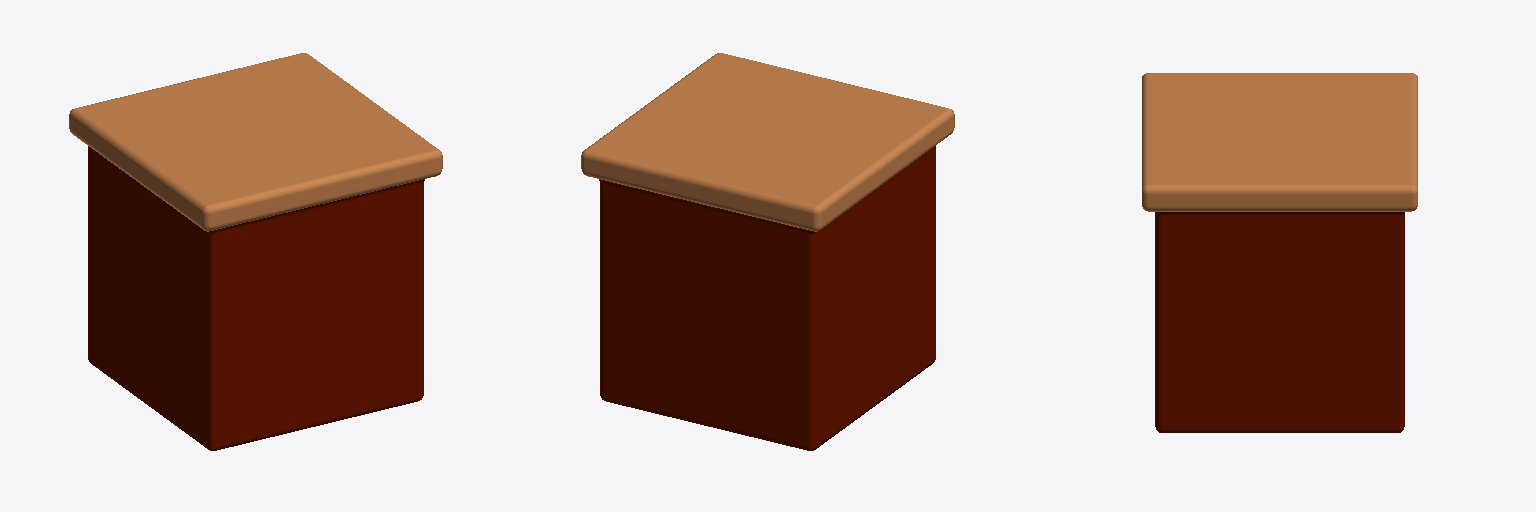
File: Table.obj
3 renders of one model, left to right at view 1: azimuth 30°, elevation 25°; view 2: azimuth 150°, elevation 25°; view 3: azimuth 270°, elevation 25°, orthographic.
Visible parts, largest first — view 1: Cube; view 2: Cube; view 3: Cube.
Part boxes in pixels (left/top/right/bottom): Cube: left=69, top=53, right=442, bottom=450; Cube: left=581, top=53, right=954, bottom=450; Cube: left=1142, top=73, right=1417, bottom=432.
Bounding box in the file's own units: 1 × 1.01 × 1.